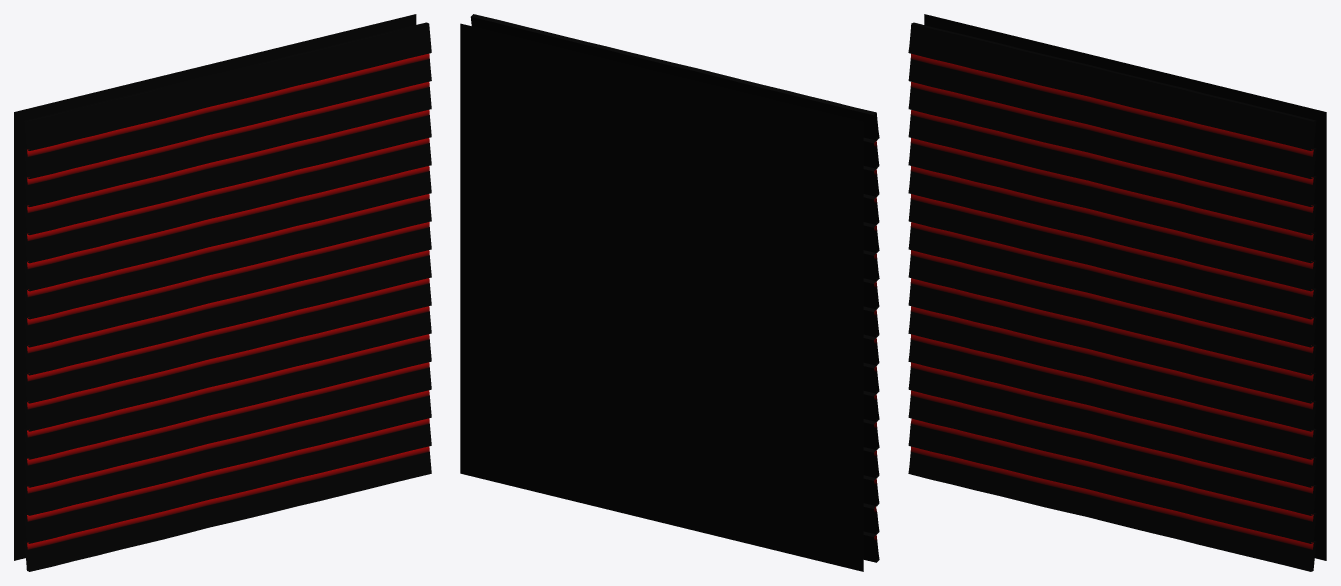
File: SM_House_ExtWall_300CM4.fbx
3 views of the same model, side by side, from view 1: azimuth 30°, elevation 25°; view 2: azimuth 150°, elevation 25°; view 3: azimuth 330°, elevation 25° (orthographic).
Visible parts, largest first — view 1: SM_House_ExtWall_300CM4; view 2: SM_House_ExtWall_300CM4; view 3: SM_House_ExtWall_300CM4.
Boxes of the visible parts, x1,y1,x2,y2 form: SM_House_ExtWall_300CM4: (14, 14, 431, 571); SM_House_ExtWall_300CM4: (460, 14, 879, 571); SM_House_ExtWall_300CM4: (908, 14, 1326, 571).
Bounding box in the file's own units: 300 × 20.38 × 321.
